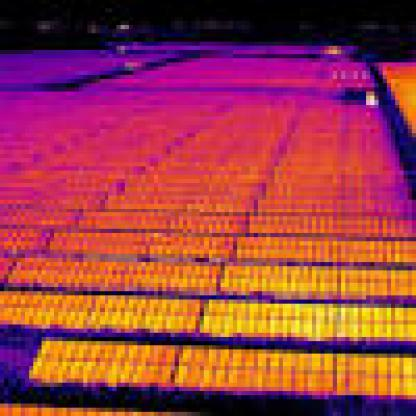Defects: (233, 304, 262, 337), (199, 299, 220, 337), (362, 88, 378, 112), (325, 46, 341, 58)
